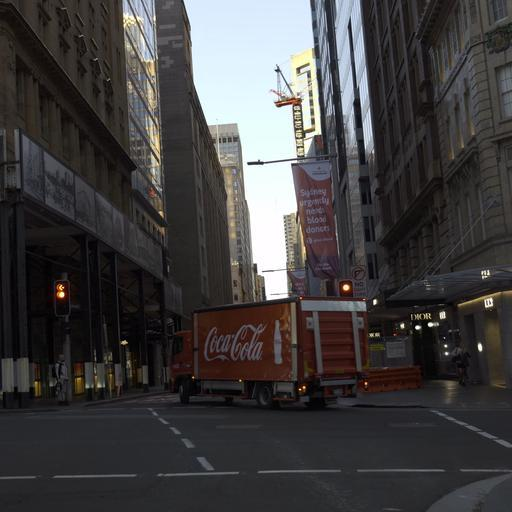Street light: (246, 152, 337, 166), (52, 278, 71, 317), (119, 338, 128, 389), (260, 266, 306, 273), (338, 278, 353, 296)
